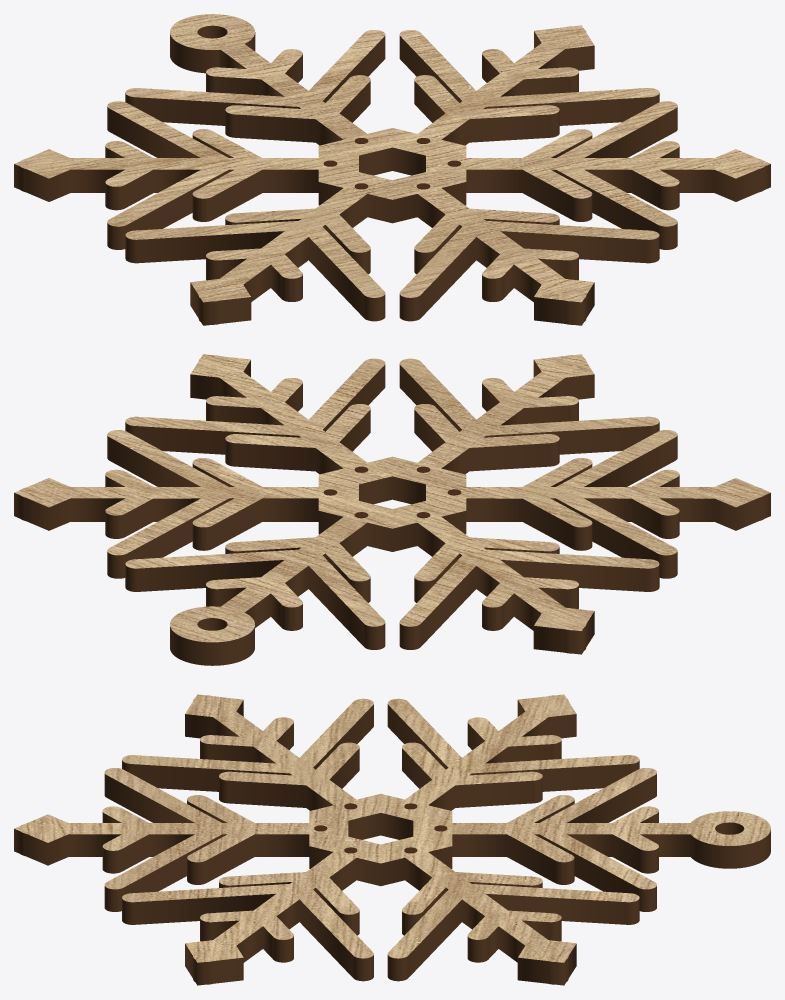
Rendered from snowflake.glb.
3 renders of one model, top to bottom at view 1: azimuth 30°, elevation 25°; view 2: azimuth 150°, elevation 25°; view 3: azimuth 270°, elevation 25°, orthographic. The views are drawn at different scales.
Parts seen in each view (by area): view 1: body0; view 2: body0; view 3: body0.
Boxes of the visible parts, left/top/right/bottom form: body0: left=14, top=14, right=770, bottom=325; body0: left=14, top=354, right=770, bottom=665; body0: left=14, top=694, right=770, bottom=985.
Size of the model in its own units: 0.0761 by 0.00306 by 0.0907.
Materials: 3 (1 with a texture image).
